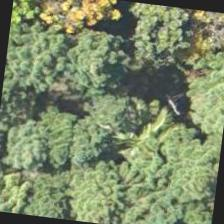Kelapa_Sawit: (86, 97, 186, 197)
